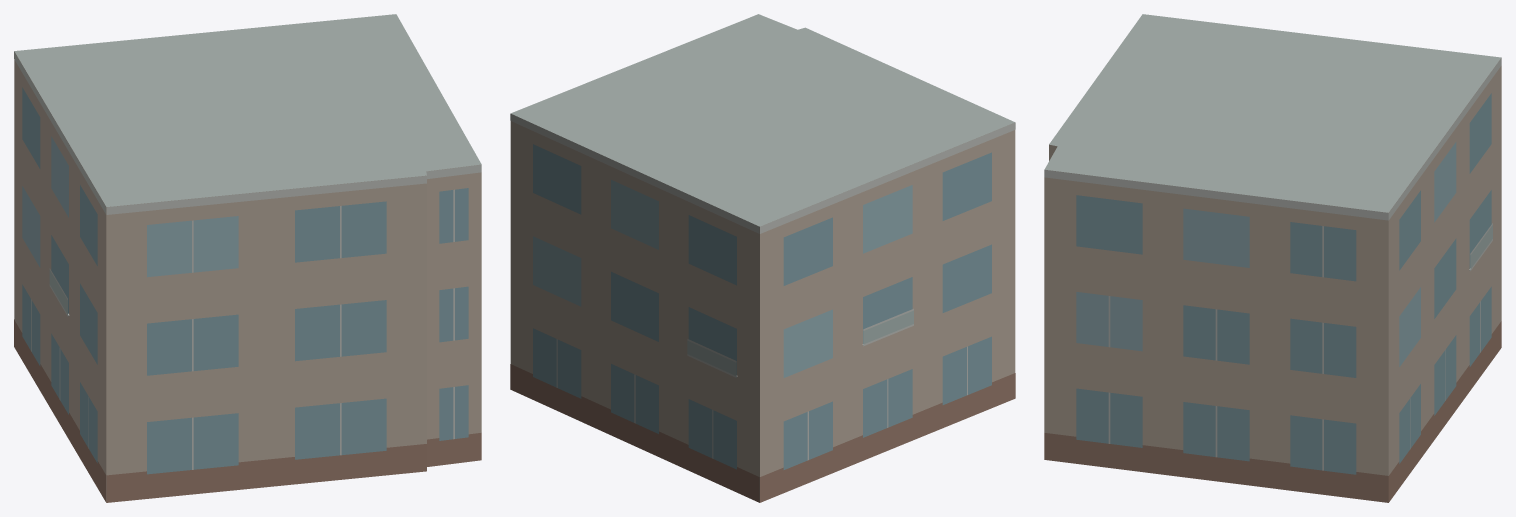
File: survey-upis-32655054.glb
3 views of the same model, side by side, from view 1: azimuth 30°, elevation 25°; view 2: azimuth 150°, elevation 25°; view 3: azimuth 270°, elevation 25° (orthographic). The views are drawn at different scales.
Visible parts, largest first — view 1: survey-upis-32655054.tmp; view 2: survey-upis-32655054.tmp; view 3: survey-upis-32655054.tmp.
Boxes of the visible parts, <box> form: survey-upis-32655054.tmp: <box>14,14,481,502</box>; survey-upis-32655054.tmp: <box>510,14,1015,502</box>; survey-upis-32655054.tmp: <box>1044,14,1501,502</box>.
Bounding box in the file's own units: 13.46 × 9.15 × 13.08.
